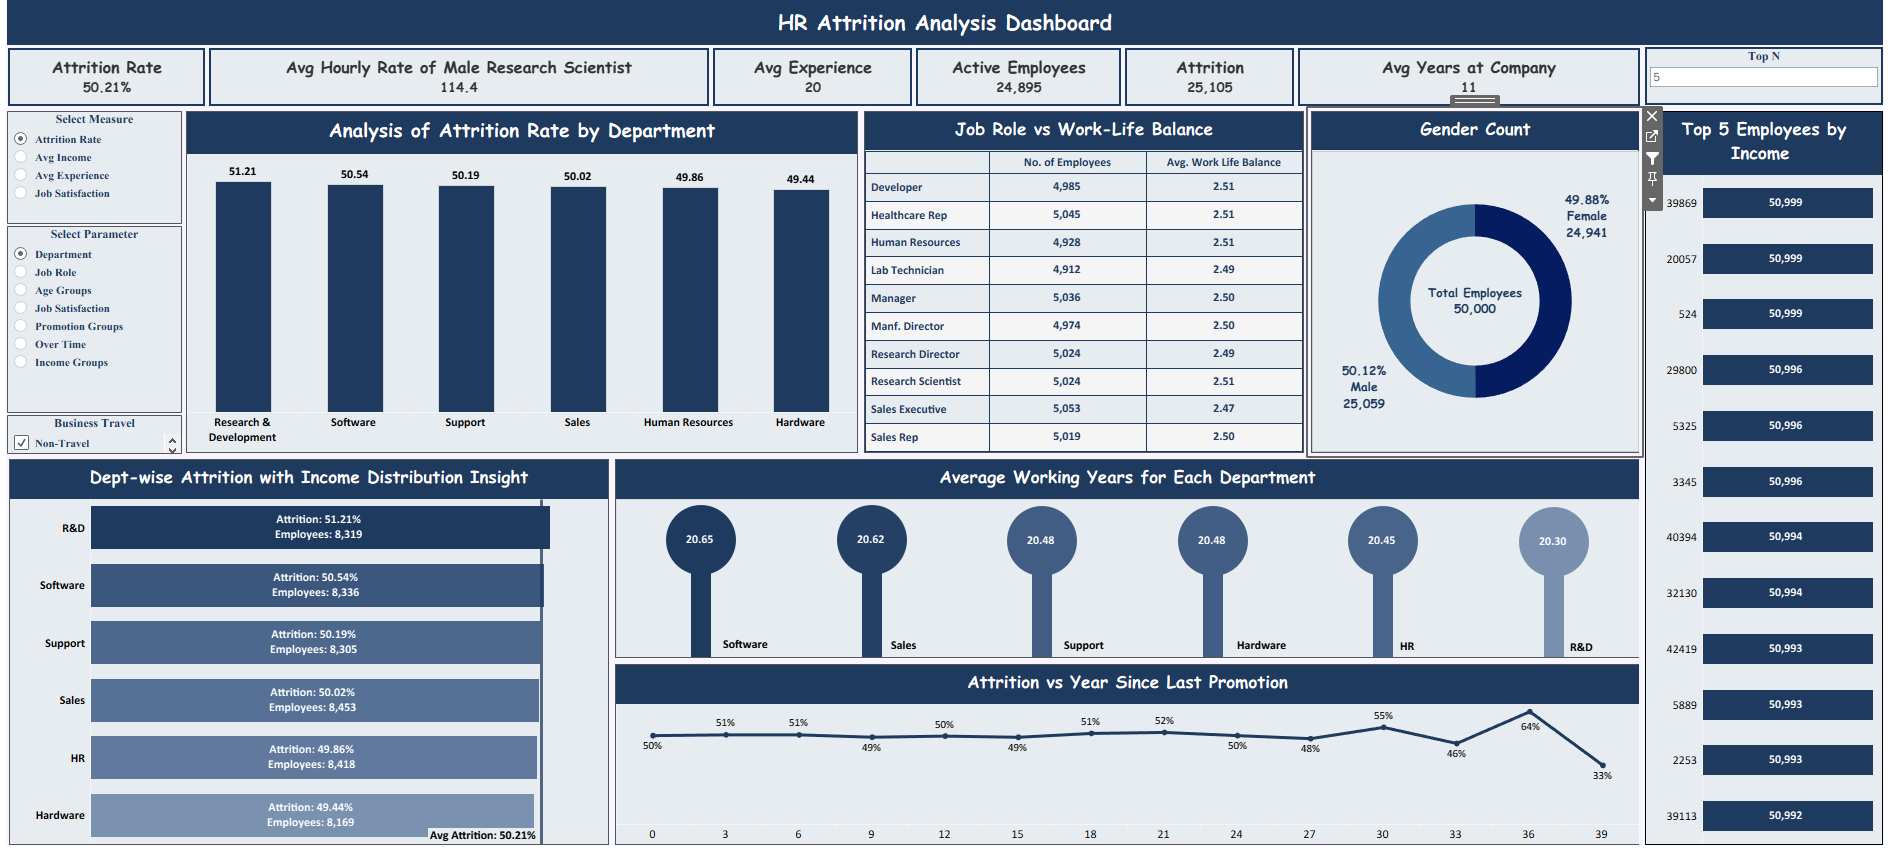

The page's visual inventory and layout, read from the dashboard file:
{"tool":"tableau","page":{"name":"Dashboard","canvas":[1000,1000],"units":"permille","ordinal":0},"visuals":[{"type":"worksheet","title":"card 1","mark":"Automatic","box":[375.7,22,122.3,133.1]},{"type":"worksheet","title":"card 2","mark":"Automatic","box":[497.9,22,122.3,133.1]},{"type":"worksheet","title":"card 3","mark":"Automatic","box":[620.2,22,121.7,133.1]},{"type":"worksheet","title":"card 4","mark":"Automatic","box":[742,22,121.7,133.1]},{"type":"worksheet","title":"card 5","mark":"Automatic","box":[863.7,22,121.7,133.1]},{"type":"image","param":"Image/WhatsApp Image 2026-04-04 at 5.42.34 PM (2).jpeg","box":[11.2,23.2,83.7,133.1]},{"type":"text","box":[94.9,23.2,277.4,133.1]},{"type":"filter","title":"KPI 2","param":"[federated.1ep294207loppm190ibih1n66n5s].[none:Gender:nk]","box":[10,166.7,110.6,145.8]},{"type":"worksheet","title":"KPI 2","mark":"Automatic","rows":["HourlyRate"],"cols":["Gender","JobRole"],"box":[127.6,171.3,286.1,395.8]},{"type":"worksheet","title":"KPI 3","mark":"Pie","rows":["Calculation_965740701751967744","Calculation_965740701751967744"],"box":[413.7,171.3,286.1,395.8]},{"type":"worksheet","title":"KPI 4","mark":"Bar","rows":["Department"],"cols":["TotalWorkingYears"],"box":[699.8,171.3,285.6,395.8]},{"type":"filter","title":"KPI 1","param":"[federated.1ep294207loppm190ibih1n66n5s].[none:WorkLifeBalance (1-4):qk]","box":[10,312.5,110.6,127.3]},{"type":"filter","title":"KPI 5","param":"[federated.1ep294207loppm190ibih1n66n5s].[none:Department:nk]","box":[10,439.8,110.6,254.6]},{"type":"worksheet","title":"KPI 1","mark":"Line","rows":["Attrition Flag"],"cols":["Department"],"box":[127.6,576.4,286.1,395.8]},{"type":"worksheet","title":"KPI 5","mark":"Automatic","rows":["JobRole"],"box":[413.7,576.4,286.1,395.8]},{"type":"worksheet","title":"KPI 6","mark":"Circle","box":[699.8,576.4,285.6,395.8]},{"type":"filter","title":"KPI 5","param":"[federated.1ep294207loppm190ibih1n66n5s].[none:JobRole:nk]","box":[10,694.5,110.6,282.4]}]}

Visuals, with their boxes on the dashboard's canvas, which has no fixed pixel size, in thousandths of its width and height (x1, y1, x2, y2). These are canvas units, not pixel positions in the 1888x848 screenshot, which may show the page scaled, cropped or inside an application window:
"card 1" worksheet: box(376, 22, 498, 155)
"card 2" worksheet: box(498, 22, 620, 155)
"card 3" worksheet: box(620, 22, 742, 155)
"card 4" worksheet: box(742, 22, 864, 155)
"card 5" worksheet: box(864, 22, 985, 155)
image: box(11, 23, 95, 156)
text: box(95, 23, 372, 156)
"KPI 2" filter: box(10, 167, 121, 312)
"KPI 2" worksheet: box(128, 171, 414, 567)
"KPI 3" worksheet (Pie marks): box(414, 171, 700, 567)
"KPI 4" worksheet (Bar marks): box(700, 171, 985, 567)
"KPI 1" filter: box(10, 312, 121, 440)
"KPI 5" filter: box(10, 440, 121, 694)
"KPI 1" worksheet (Line marks): box(128, 576, 414, 972)
"KPI 5" worksheet: box(414, 576, 700, 972)
"KPI 6" worksheet (Circle marks): box(700, 576, 985, 972)
"KPI 5" filter: box(10, 694, 121, 977)
